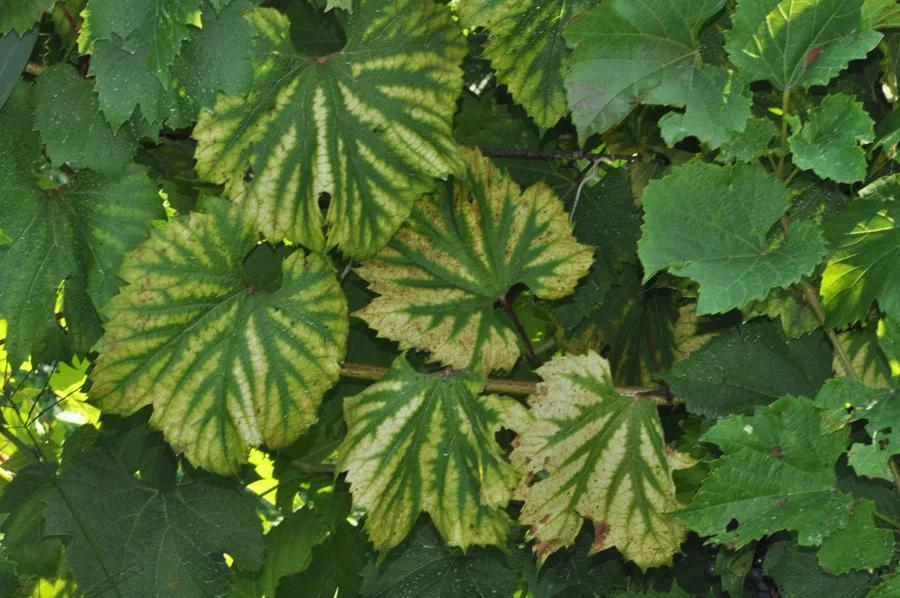chlorosis: (92, 200, 348, 474), (194, 0, 465, 258), (354, 150, 592, 372), (511, 352, 692, 569), (339, 355, 529, 550)
